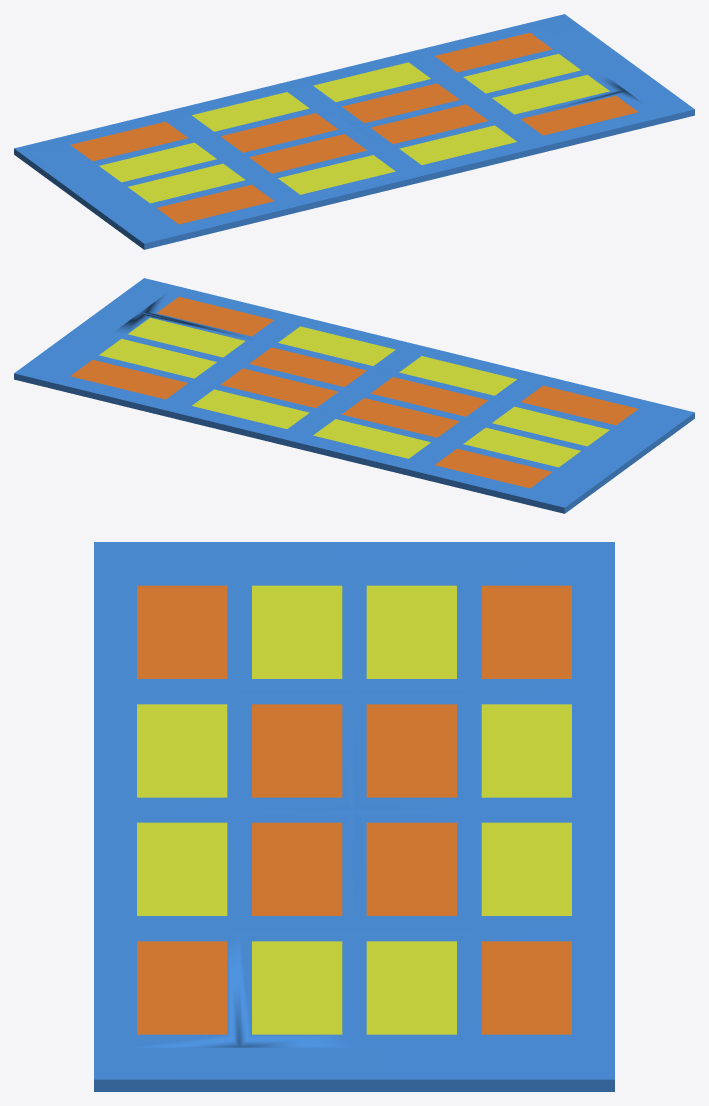
File: Rug01.fbx
3 renders of one model, top to bottom at view 1: azimuth 30°, elevation 25°; view 2: azimuth 150°, elevation 25°; view 3: azimuth 270°, elevation 25°, orthographic. The views are drawn at different scales.
Parts seen in each view (by area): view 1: Rug01; view 2: Rug01; view 3: Rug01.
Boxes of the visible parts, x1,y1,x2,y2 form: Rug01: (14, 14, 694, 249); Rug01: (14, 278, 694, 513); Rug01: (94, 542, 614, 1091).
Bounding box in the file's own units: 1.79 × 0.7322 × 0.0201.
